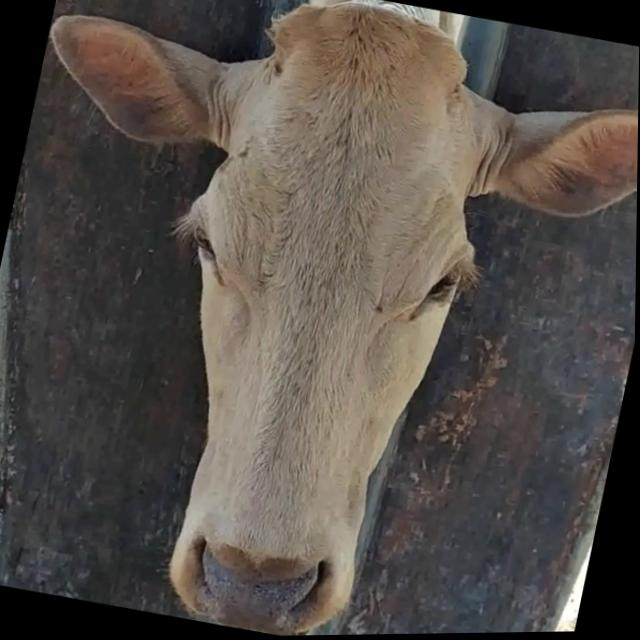cowFace: (119, 0, 522, 639)
